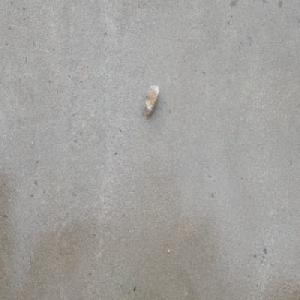Rock: (143, 83, 160, 118)
